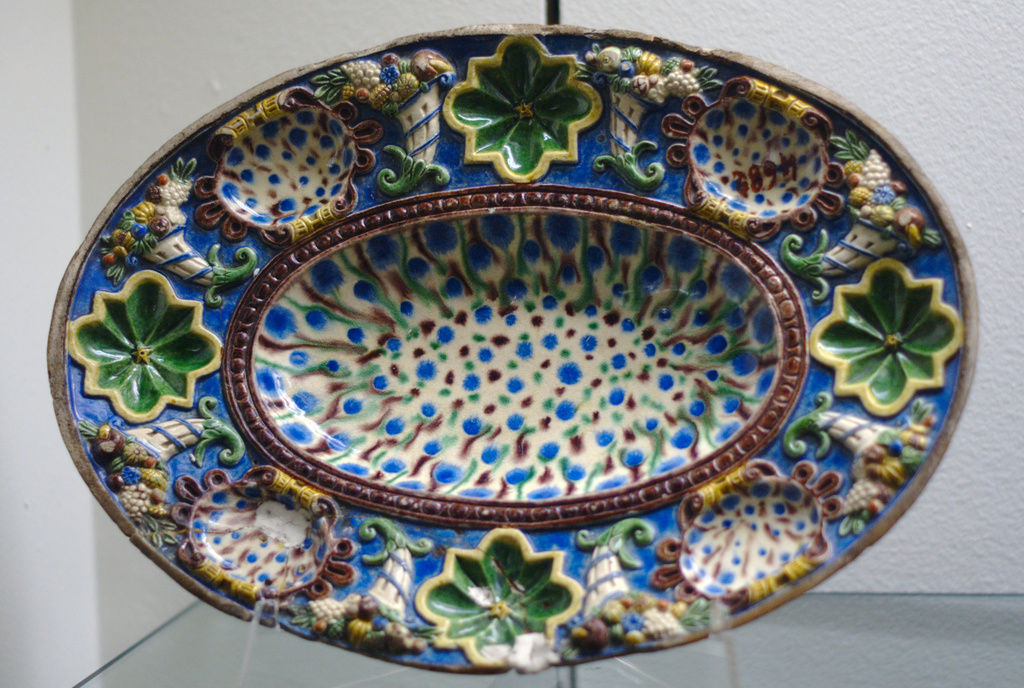plate: (45, 22, 981, 676)
